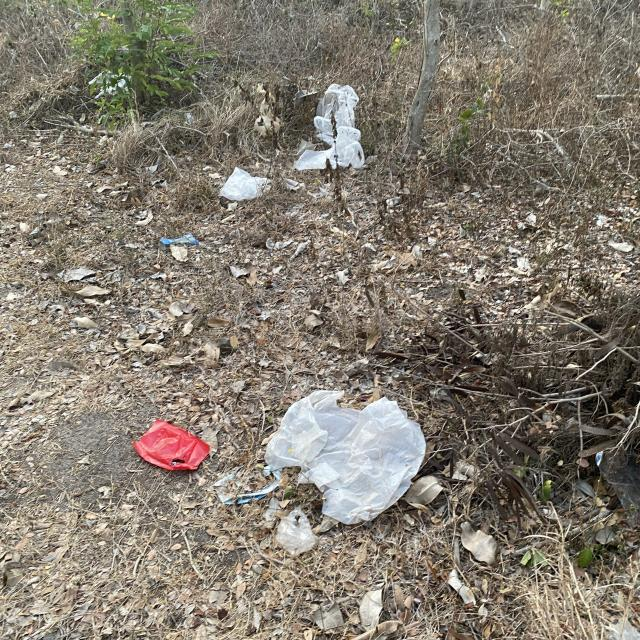Single-layer Plastic: (265, 391, 426, 524), (295, 84, 365, 170), (220, 168, 268, 201)
